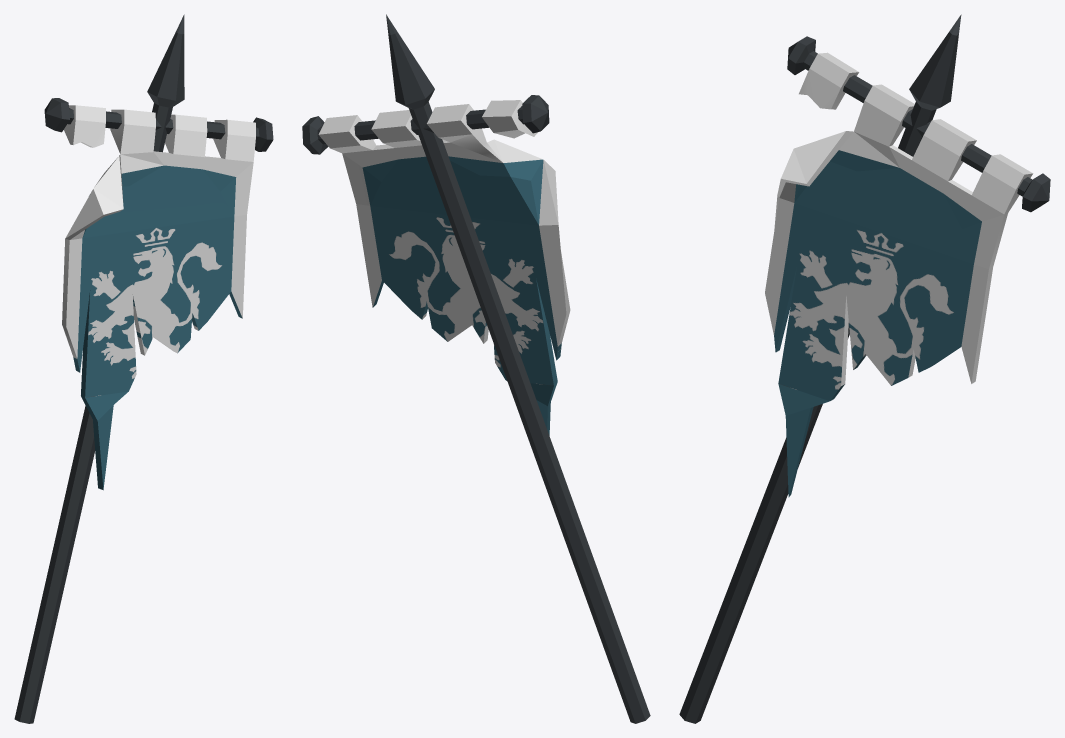
Rendered from prop_battle_banner2.gltf.
3 renders of one model, left to right at view 1: azimuth 30°, elevation 25°; view 2: azimuth 150°, elevation 25°; view 3: azimuth 330°, elevation 25°, orthographic. The views are drawn at different scales.
Visible parts, largest first — view 1: prop_battle_banner2; view 2: prop_battle_banner2; view 3: prop_battle_banner2.
Boxes of the visible parts, x1=… form: prop_battle_banner2: x1=14, y1=14, x2=273, y2=723; prop_battle_banner2: x1=302, y1=14, x2=650, y2=723; prop_battle_banner2: x1=679, y1=14, x2=1050, y2=723.
Size of the model in its own units: 0.9053 by 1.91 by 0.2621.
Materials: 1 (1 with a texture image).
